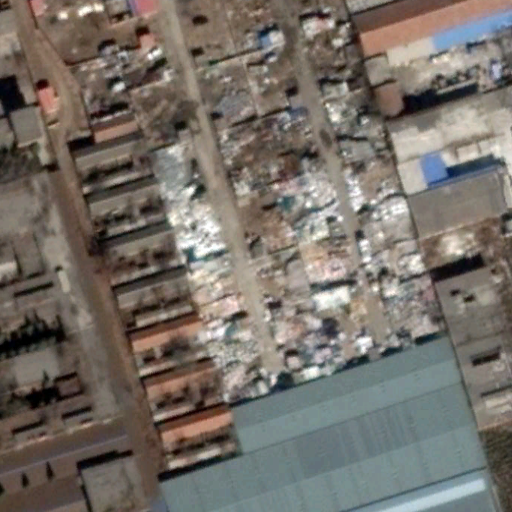msw: (139, 87, 445, 403)
